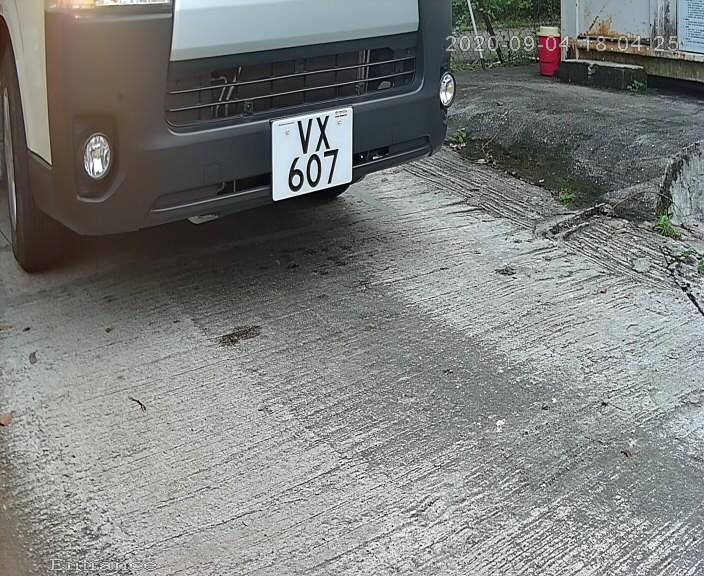License Plate: (261, 103, 362, 206)
